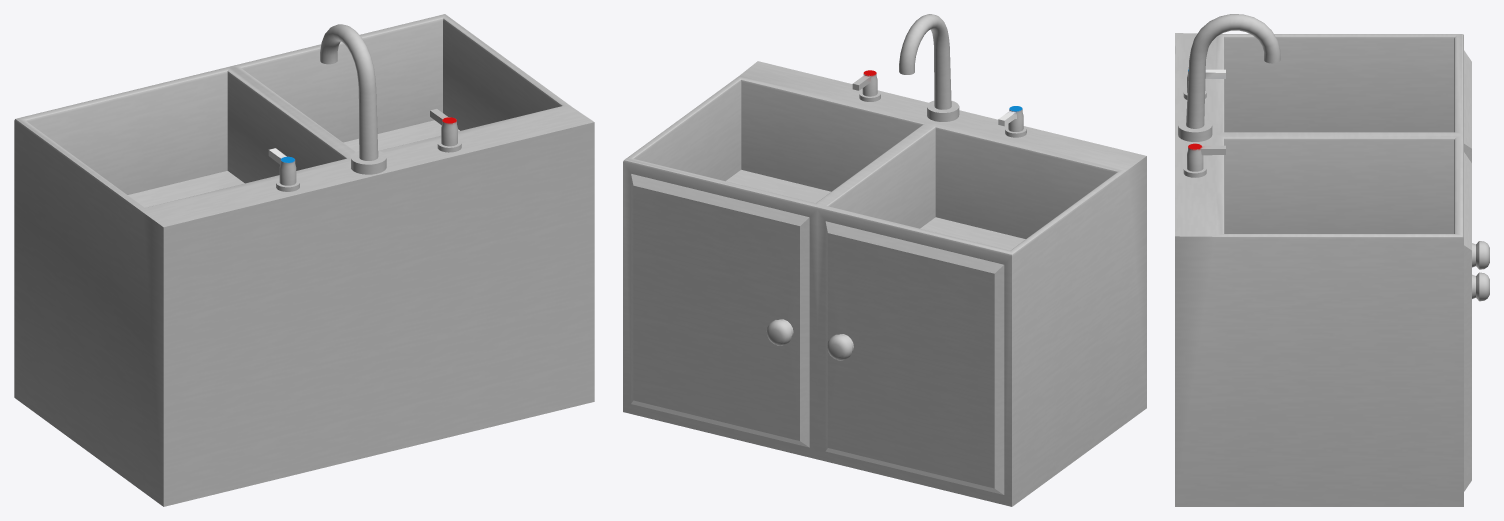
The model's file is KitchenSink.fbx.
3 renders of one model, left to right at view 1: azimuth 30°, elevation 25°; view 2: azimuth 150°, elevation 25°; view 3: azimuth 270°, elevation 25°, orthographic. The views are drawn at different scales.
Parts seen in each view (by area): view 1: Sink.001; view 2: Sink.001; view 3: Sink.001.
Part boxes in pixels (x1,y1,x2,y2): Sink.001: (14,14,594,506); Sink.001: (623,14,1146,506); Sink.001: (1175,14,1489,506).
Size of the model in its own units: 2.5 by 1.63 by 2.24.
